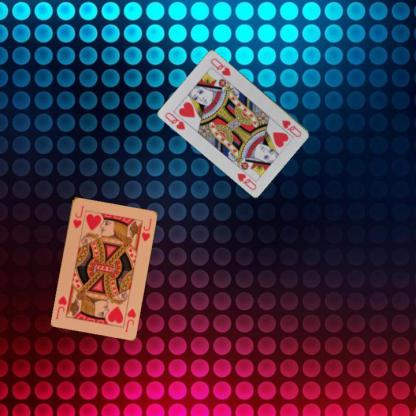Jh: (122, 306, 137, 333), (70, 203, 85, 229)
Qh: (163, 109, 187, 131), (280, 117, 302, 139)
